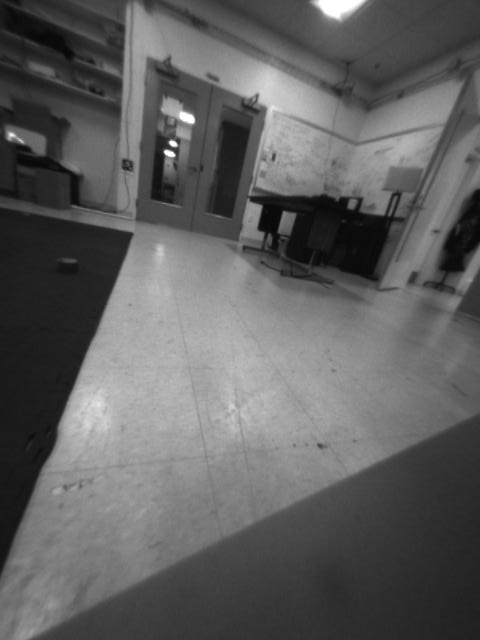dogtoy: (46, 246, 86, 280)
